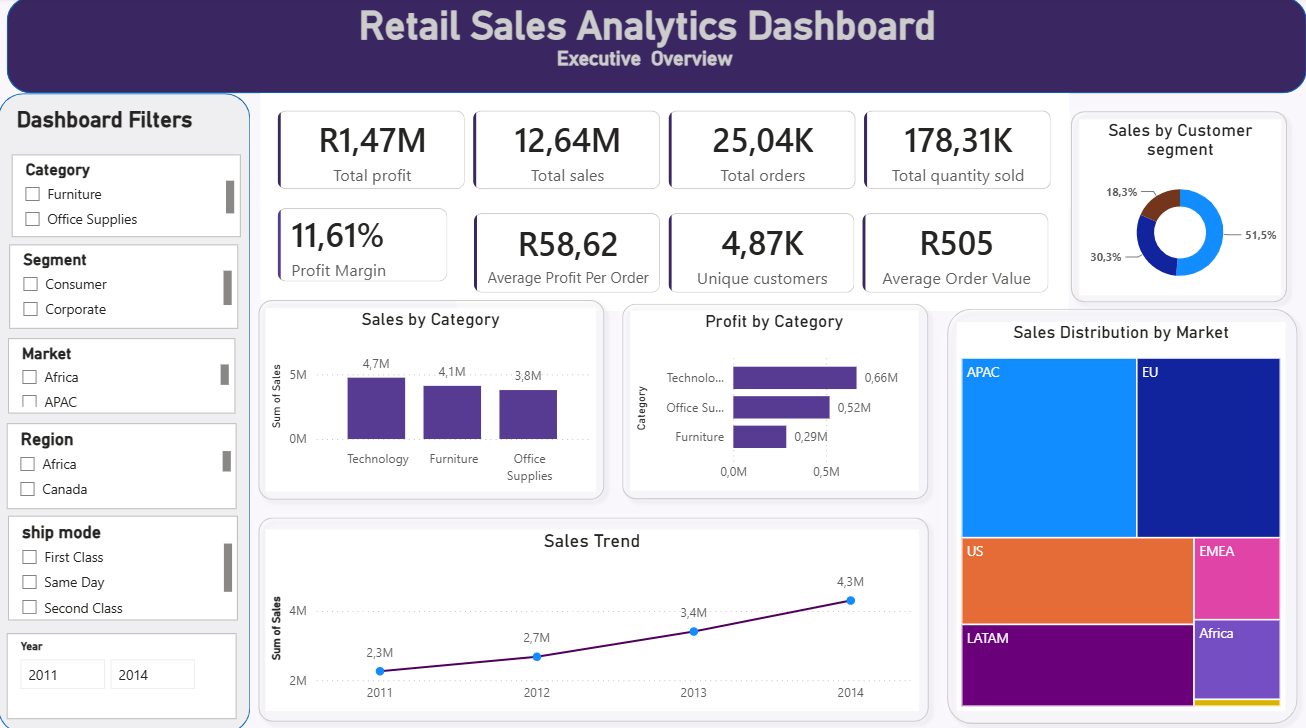

The page's visual inventory and layout, read from the dashboard file:
{"tool":"powerbi","page":{"name":"Executive  Overview","canvas":[1280,720],"ordinal":0},"visuals":[{"type":"shape","box":[8.6,0,1271.7,94.2],"z":0},{"type":"textbox","box":[0,0,1270.5,94.2],"z":1000},{"type":"shape","box":[0,93.8,246.7,626.2],"z":2000},{"type":"slicer","fields":{"Values":["superstore.category"]},"box":[13,154.4,223.6,80.8],"z":3000},{"type":"cardVisual","fields":{"Data":["superstore.Total profit","superstore.Total sales","superstore.Total orders","superstore.Total quantity sold"]},"box":[256.8,94.2,791.2,111.3],"z":4000},{"type":"cardVisual","fields":{"Data":["superstore.Average Profit Per Order","superstore.Unique customers","superstore.Average Order Value"]},"box":[448.7,194.8,598.7,112.5],"z":5000},{"type":"slicer","fields":{"Values":["superstore.segment"]},"box":[11.5,242.4,223.6,82.2],"z":6000},{"type":"slicer","fields":{"Values":["superstore.market"]},"box":[10.1,333.3,222.2,73.6],"z":7000},{"type":"slicer","fields":{"Values":["superstore.region"]},"box":[8.7,417,225.1,83.7],"z":8000},{"type":"slicer","fields":{"Values":["superstore.ship_mode"]},"box":[10.1,507.9,225.1,102.4],"z":9000},{"type":"slicer","fields":{"Values":["superstore.year"]},"box":[8.7,621.8,225.1,83.7],"z":10000},{"type":"shape","box":[245.3,287.1,356.4,213.5],"z":11000},{"type":"shape","box":[601.6,291.4,317.4,209.2],"z":12000},{"type":"shape","box":[1040.2,102.4,229.4,204.9],"z":13000},{"type":"shape","box":[245.3,500.6,673.8,217.9],"z":14000},{"type":"shape","box":[919,295.8,360.7,424.2],"z":15000},{"type":"lineChart","title":"Sales Trend","fields":{"Category":["superstore.Order Date.Variation.Date Hierarchy.Year","superstore.Order Date.Variation.Date Hierarchy.Quarter","superstore.Order Date.Variation.Date Hierarchy.Month","superstore.Order Date.Variation.Date Hierarchy.Day"],"Y":["Sum(superstore.sales)"]},"box":[261.1,520.8,639.1,177.5],"z":16000},{"type":"clusteredColumnChart","title":"Sales by Category","fields":{"Category":["superstore.category"],"Y":["Sum(superstore.sales)"]},"box":[261.1,304.4,323.2,178.9],"z":17000},{"type":"clusteredBarChart","title":"Profit by Category","fields":{"Category":["superstore.category"],"Y":["Sum(superstore.profit)"]},"box":[618.9,307.3,281.3,176],"z":18000},{"type":"donutChart","title":"Sales by Customer Segment","fields":{"Category":["superstore.segment"],"Y":["Sum(superstore.sales)"]},"box":[1057.5,119.7,197.7,171.7],"z":19000},{"type":"treemap","title":"Sales Distribution by Market","fields":{"Group":["superstore.market"],"Values":["Sum(superstore.sales)"]},"box":[937.8,317.4,321.7,380.9],"z":20000},{"type":"cardVisual","fields":{"Data":["superstore.Profit Margin"]},"box":[256.8,189,200.5,106.8],"z":21000},{"type":"textbox","box":[13,102.4,223.6,50.5],"z":22000}]}

Visuals, with their boxes in screenshot pixels (x1, y1, x2, y2), scaled from the page's 1280x720 canvas onto the 1306x728 screenshot:
shape: {"left": 9, "top": 0, "right": 1305, "bottom": 95}
textbox: {"left": 0, "top": 0, "right": 1296, "bottom": 95}
shape: {"left": 0, "top": 95, "right": 252, "bottom": 727}
slicer - superstore.category: {"left": 13, "top": 156, "right": 241, "bottom": 238}
cardVisual - superstore.Total profit x superstore.Total sales: {"left": 262, "top": 95, "right": 1069, "bottom": 208}
cardVisual - superstore.Average Profit Per Order x superstore.Unique customers: {"left": 458, "top": 197, "right": 1069, "bottom": 311}
slicer - superstore.segment: {"left": 12, "top": 245, "right": 240, "bottom": 328}
slicer - superstore.market: {"left": 10, "top": 337, "right": 237, "bottom": 411}
slicer - superstore.region: {"left": 9, "top": 422, "right": 239, "bottom": 506}
slicer - superstore.ship_mode: {"left": 10, "top": 514, "right": 240, "bottom": 617}
slicer - superstore.year: {"left": 9, "top": 629, "right": 239, "bottom": 713}
shape: {"left": 250, "top": 290, "right": 614, "bottom": 506}
shape: {"left": 614, "top": 295, "right": 938, "bottom": 506}
shape: {"left": 1061, "top": 104, "right": 1295, "bottom": 311}
shape: {"left": 250, "top": 506, "right": 938, "bottom": 726}
shape: {"left": 938, "top": 299, "right": 1305, "bottom": 727}
"Sales Trend" lineChart: {"left": 266, "top": 527, "right": 918, "bottom": 706}
"Sales by Category" clusteredColumnChart: {"left": 266, "top": 308, "right": 596, "bottom": 489}
"Profit by Category" clusteredBarChart: {"left": 631, "top": 311, "right": 918, "bottom": 489}
"Sales by Customer Segment" donutChart: {"left": 1079, "top": 121, "right": 1281, "bottom": 295}
"Sales Distribution by Market" treemap: {"left": 957, "top": 321, "right": 1285, "bottom": 706}
cardVisual - superstore.Profit Margin: {"left": 262, "top": 191, "right": 467, "bottom": 299}
textbox: {"left": 13, "top": 104, "right": 241, "bottom": 155}
